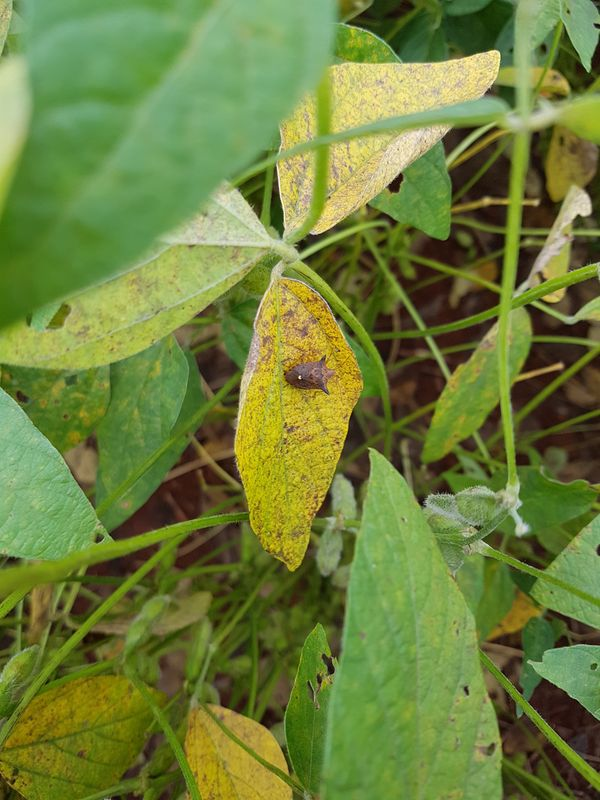Euschistus_heros_adulto: (277, 350, 335, 401)
